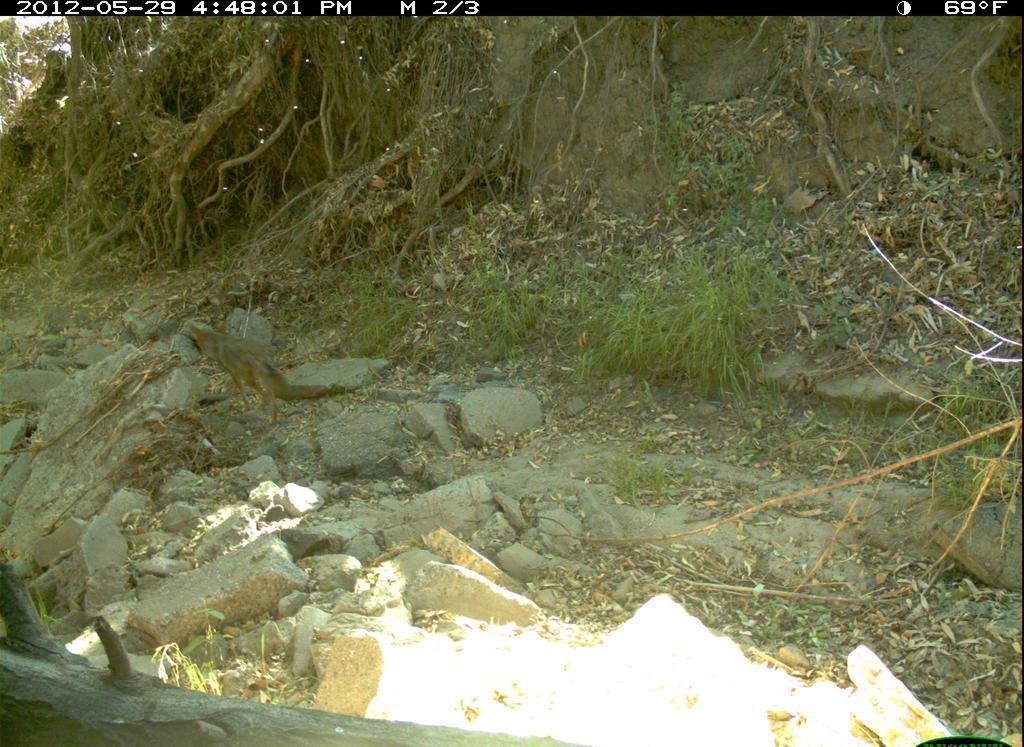coyote: (178, 312, 308, 433)
